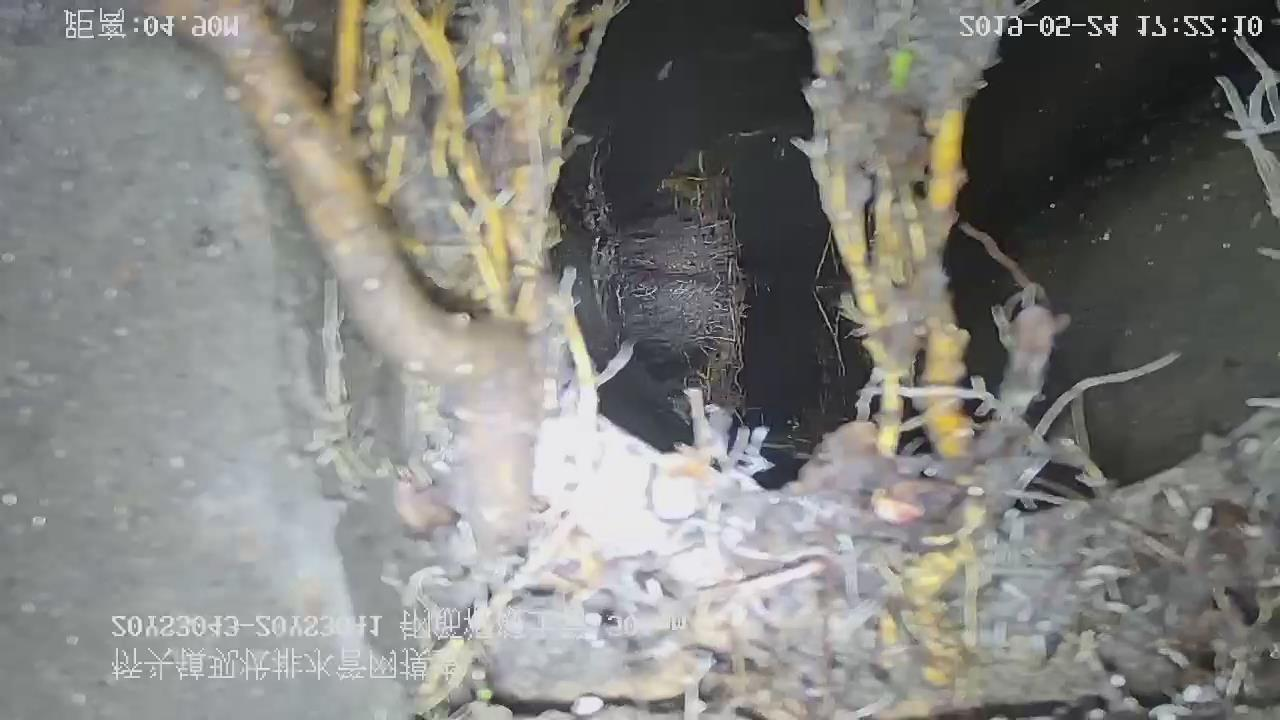SG: (162, 1, 1279, 720)
